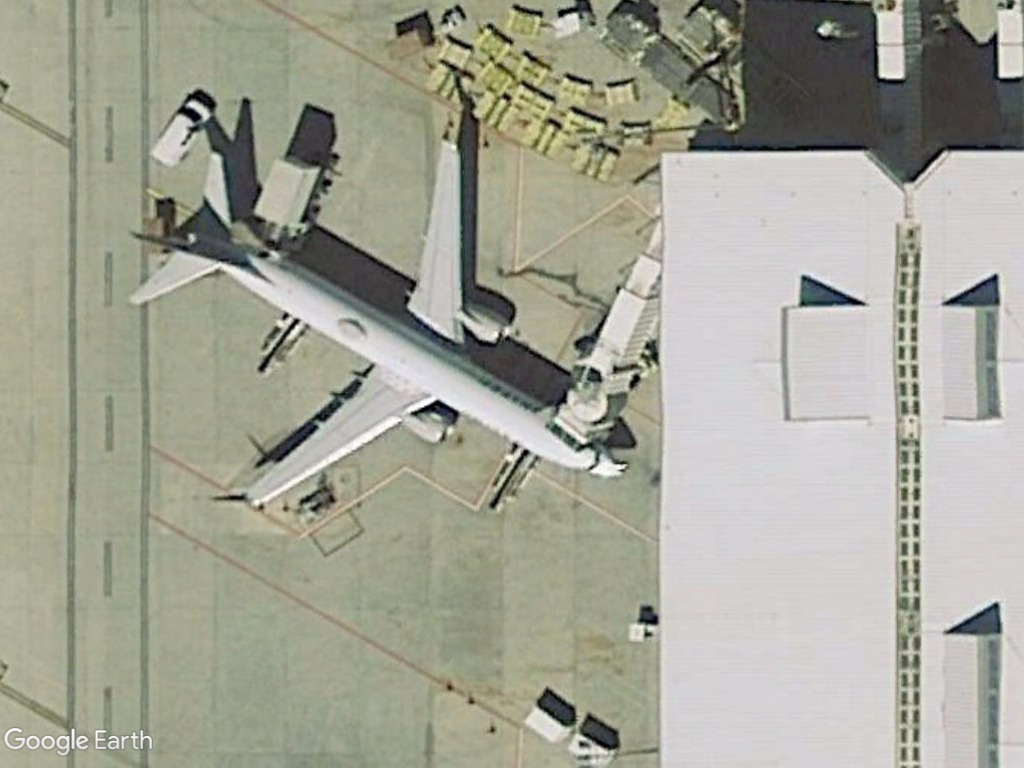airliner: (124, 135, 626, 515)
van: (141, 92, 219, 174)
